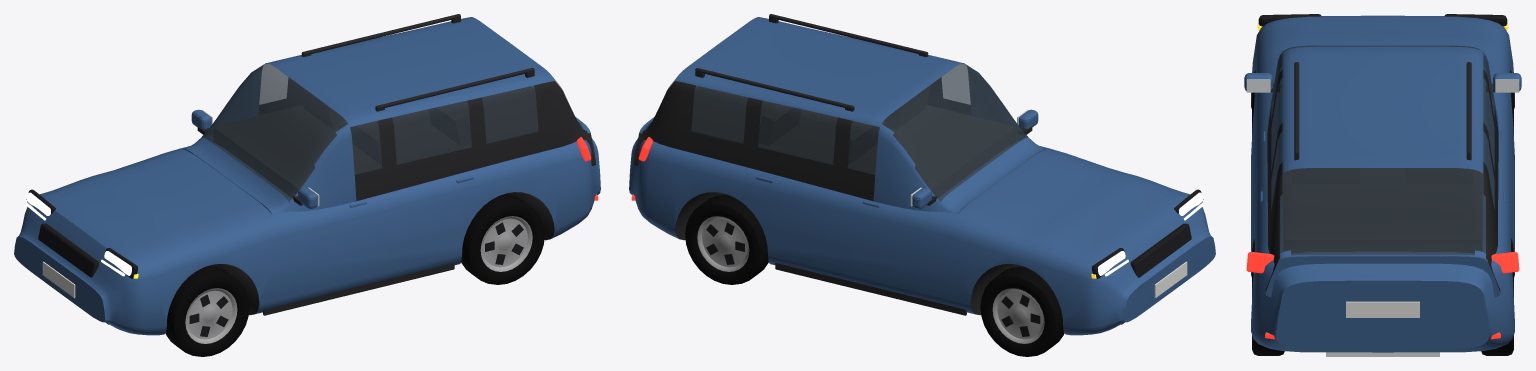
Rendered from suv.glb.
The picture shows the model from 3 angles, left to right: view 1: azimuth 30°, elevation 25°; view 2: azimuth 150°, elevation 25°; view 3: azimuth 270°, elevation 25°; orthographic projection. The views are drawn at different scales.
Parts seen in each view (by area): view 1: suv-body, wheel-fr, wheel-rr; view 2: suv-body, wheel-fl, wheel-rl; view 3: suv-body, wheel-rl, wheel-rr.
Boxes of the visible parts, box(x1,y1,x2,y2) form: suv-body: box(14, 14, 600, 335); wheel-fr: box(165, 266, 249, 356); wheel-rr: box(461, 194, 544, 284); suv-body: box(629, 14, 1215, 335); wheel-fl: box(980, 266, 1064, 356); wheel-rl: box(685, 194, 768, 284); suv-body: box(1244, 14, 1521, 356); wheel-rl: box(1481, 272, 1513, 355); wheel-rr: box(1252, 272, 1284, 355).
Bounding box in the file's own units: 4.72 × 1.75 × 1.95.
13 materials, 2 textured.
